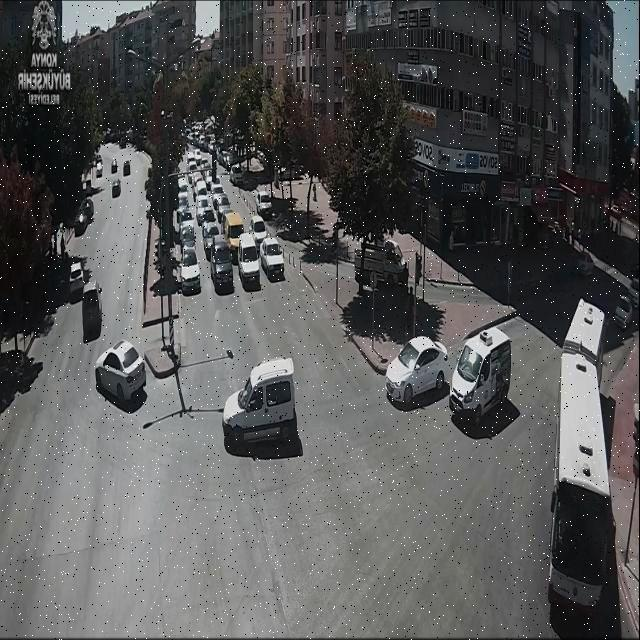Bus: (548, 306, 616, 627)
Car: (222, 356, 298, 446), (451, 326, 512, 421), (384, 336, 448, 402), (93, 335, 149, 407), (353, 240, 411, 292), (236, 234, 261, 288), (210, 240, 234, 292), (259, 236, 286, 280), (82, 282, 102, 339), (223, 211, 246, 258), (179, 249, 201, 295), (608, 198, 638, 228), (518, 220, 546, 250), (613, 296, 636, 331), (202, 222, 221, 258), (249, 215, 269, 248), (69, 258, 85, 299), (254, 188, 273, 218), (384, 239, 404, 266), (178, 223, 196, 251), (538, 215, 562, 236), (625, 281, 640, 314), (176, 208, 194, 235), (195, 199, 212, 225), (576, 252, 595, 275), (215, 198, 233, 220), (210, 184, 227, 206), (74, 212, 88, 236), (177, 194, 192, 216), (635, 404, 640, 469), (230, 163, 244, 185), (195, 182, 210, 202), (177, 182, 191, 203), (81, 198, 94, 220), (187, 179, 200, 201), (214, 145, 228, 165), (220, 150, 234, 168), (190, 172, 204, 190), (202, 172, 214, 190), (491, 230, 503, 247), (209, 174, 222, 189), (601, 206, 613, 222), (609, 205, 623, 218), (186, 170, 197, 186), (200, 160, 211, 175), (186, 150, 196, 166), (112, 178, 120, 196), (188, 160, 198, 174), (206, 135, 216, 149), (188, 133, 198, 146), (96, 160, 103, 178), (194, 149, 202, 164), (252, 189, 260, 204), (633, 276, 640, 293), (123, 161, 131, 175), (111, 159, 118, 173), (198, 135, 206, 147), (215, 138, 223, 148), (96, 155, 102, 165), (92, 155, 97, 166)
